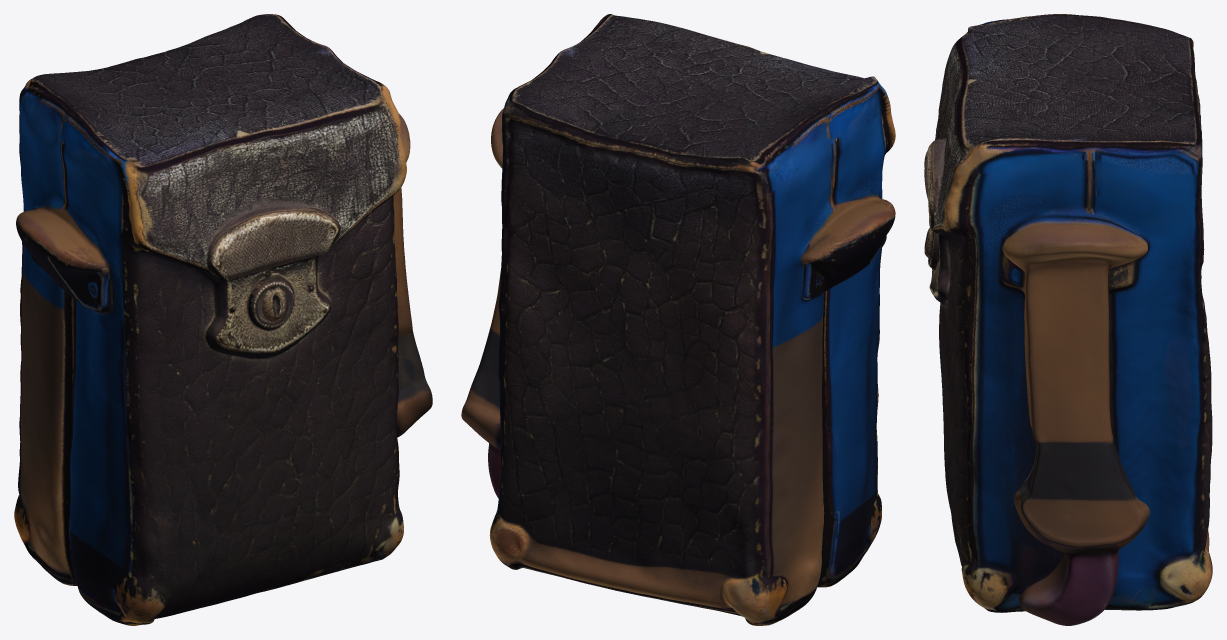
The model's file is korobka_3d.glb.
3 views of the same model, side by side, from view 1: azimuth 30°, elevation 25°; view 2: azimuth 150°, elevation 25°; view 3: azimuth 270°, elevation 25° (orthographic). The views are drawn at different scales.
Size of the model in its own units: 1.6 by 1.9 by 1.04.
Materials: 1 (1 with a texture image).
